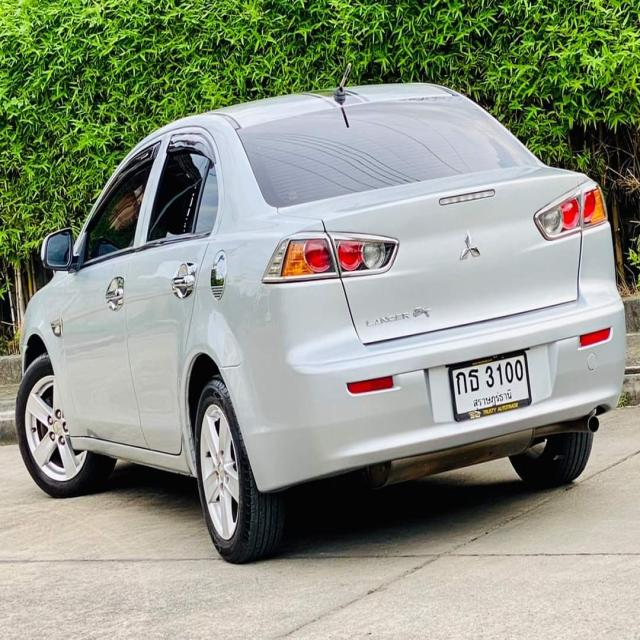license_plate: (447, 346, 534, 423)
